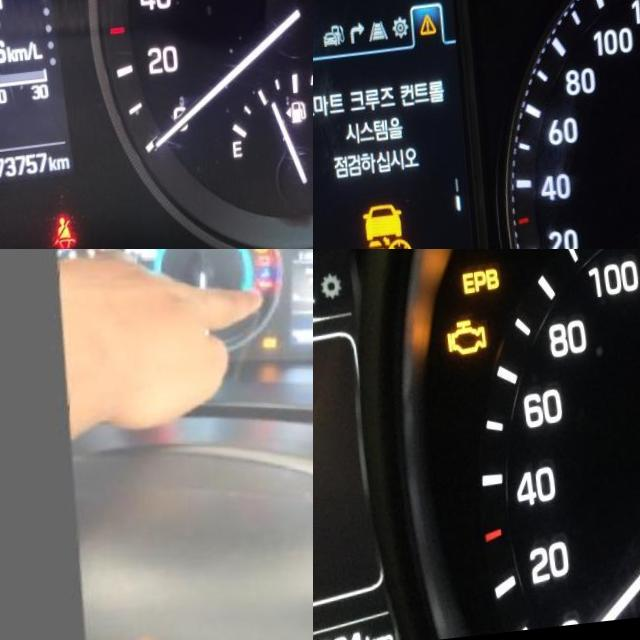Engine cooling system: (257, 265, 271, 283)
